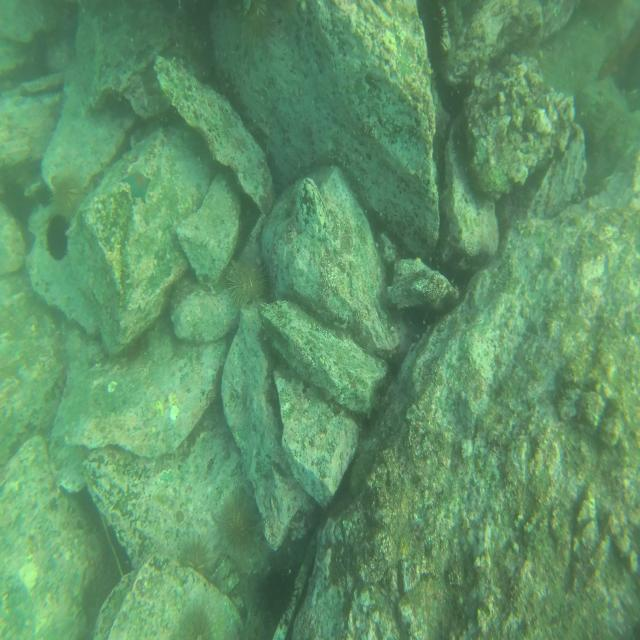echinus: (253, 561, 300, 620), (215, 495, 254, 550), (224, 264, 268, 310), (414, 5, 452, 51), (182, 19, 217, 64), (175, 535, 213, 573), (239, 5, 276, 44), (51, 174, 86, 211), (182, 608, 217, 640), (48, 213, 69, 257)
starfish: (122, 164, 151, 204)
